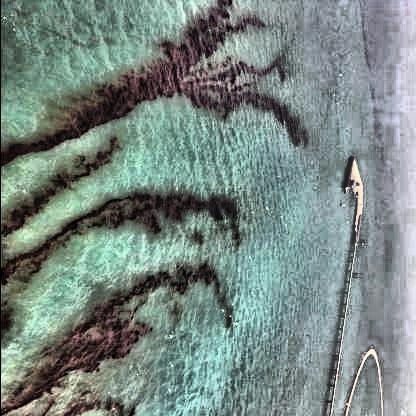truecolor: (1, 0, 307, 164), (2, 266, 216, 416), (1, 193, 237, 284)
